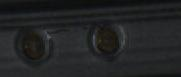joints: (10, 24, 53, 63), (87, 20, 127, 60)
